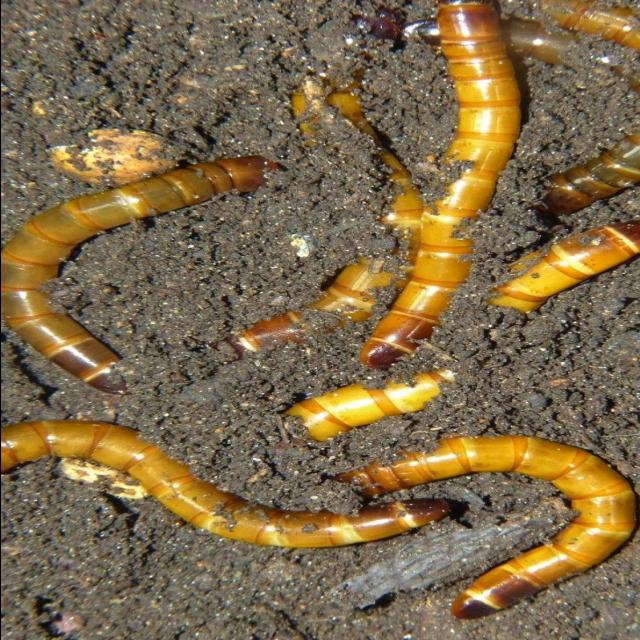wireworm: (0, 128, 277, 403), (0, 399, 452, 534), (334, 436, 640, 619), (344, 6, 492, 378)
